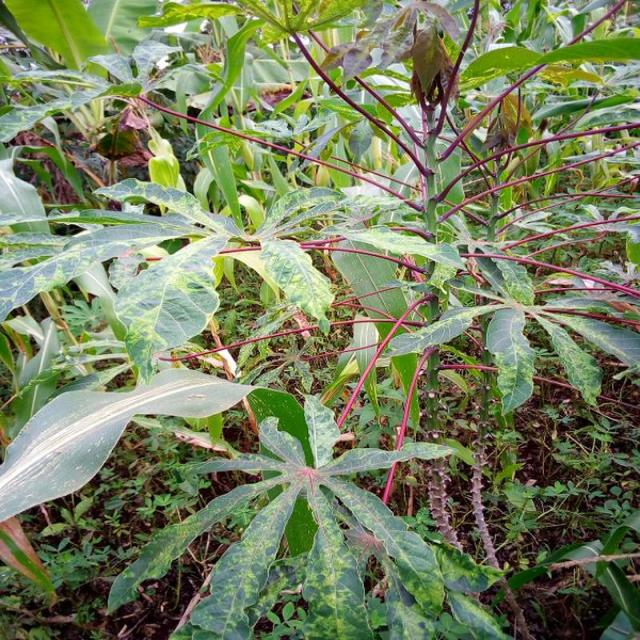Mosaico: (178, 397, 489, 636), (454, 216, 640, 395), (394, 20, 449, 109), (492, 82, 540, 171)
